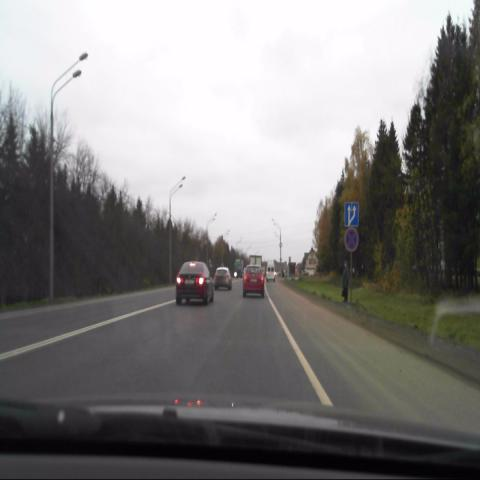5_15_3: (344, 201, 360, 227)
